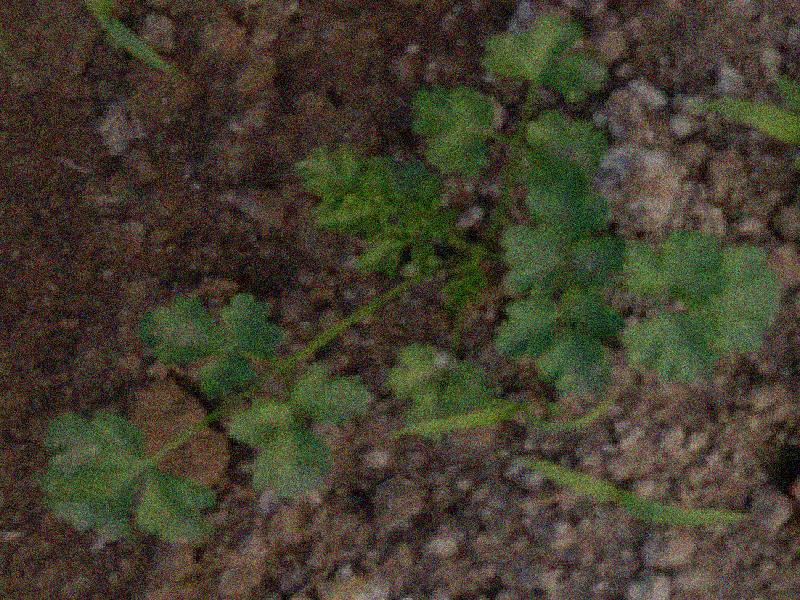radish: (34, 32, 653, 534)
